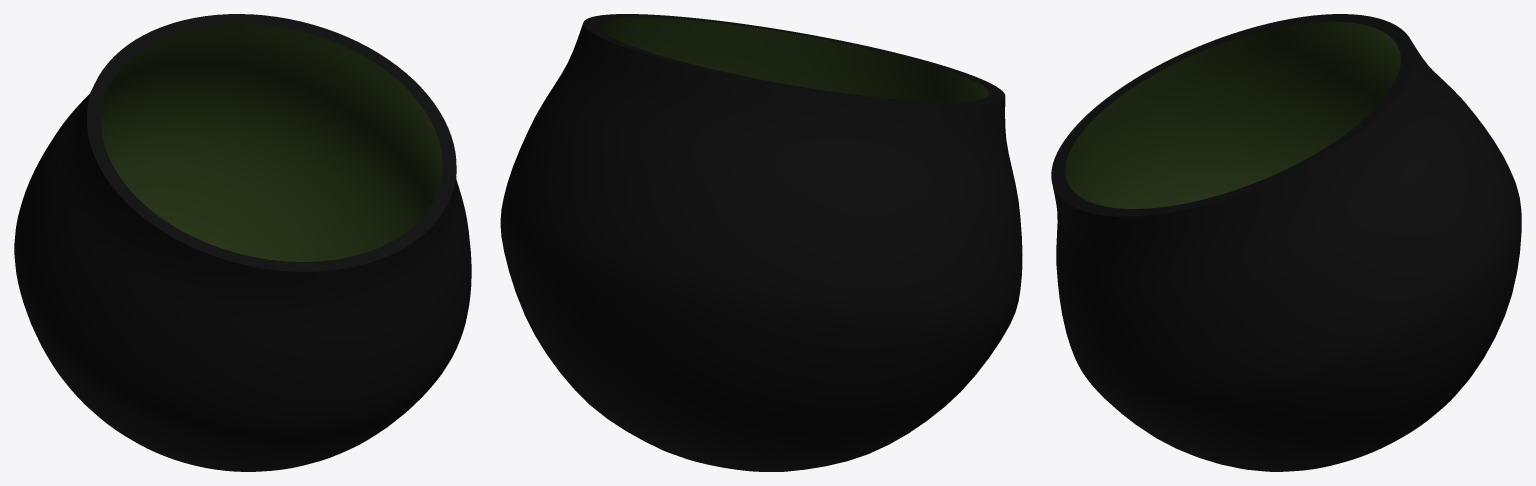
3 renders of one model, left to right at view 1: azimuth 30°, elevation 25°; view 2: azimuth 150°, elevation 25°; view 3: azimuth 270°, elevation 25°, orthographic. The views are drawn at different scales.
Parts seen in each view (by area): view 1: utsuwa_body; view 2: utsuwa_body; view 3: utsuwa_body.
Part boxes in pixels (left/top/right/bottom): utsuwa_body: left=14, top=14, right=471, bottom=471; utsuwa_body: left=500, top=14, right=1022, bottom=471; utsuwa_body: left=1051, top=14, right=1521, bottom=471.
Size of what is drawn, in the model's own units: 1.77 by 1.61 by 1.75.
